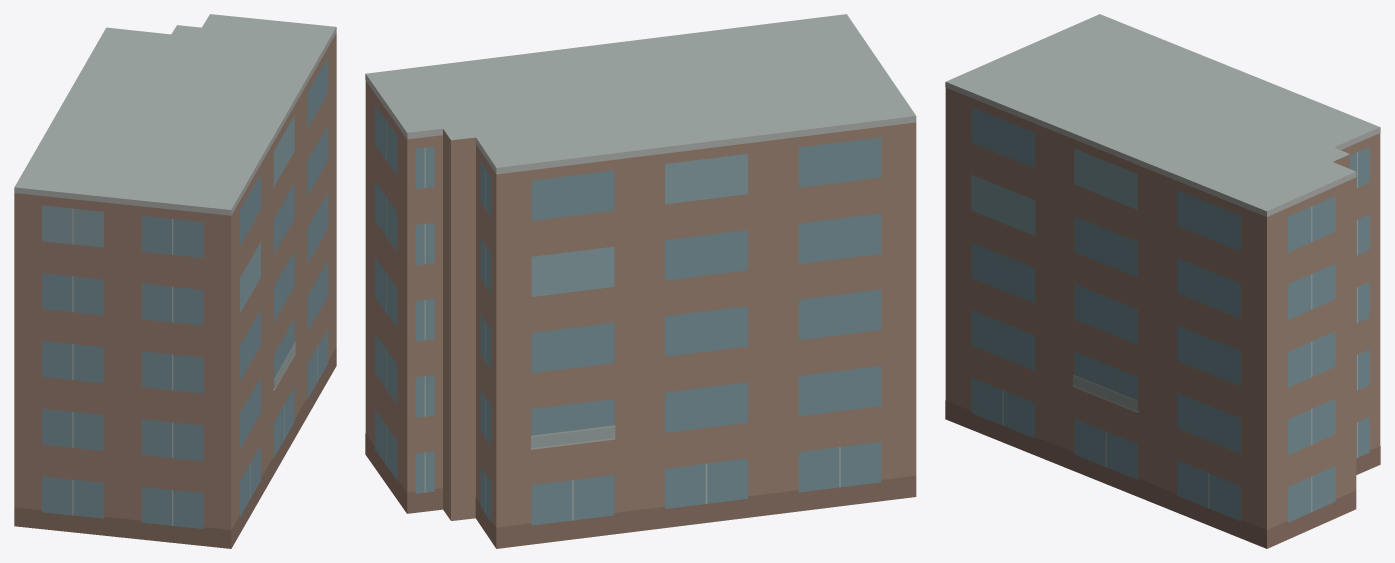
Rendered from survey-upis-32981034.glb.
3 views of the same model, side by side, from view 1: azimuth 30°, elevation 25°; view 2: azimuth 150°, elevation 25°; view 3: azimuth 270°, elevation 25° (orthographic). The views are drawn at different scales.
Visible parts, largest first — view 1: survey-upis-32981034.tmp; view 2: survey-upis-32981034.tmp; view 3: survey-upis-32981034.tmp.
Boxes of the visible parts, x1,y1,x2,y2 form: survey-upis-32981034.tmp: (14,14,336,548); survey-upis-32981034.tmp: (365,14,916,548); survey-upis-32981034.tmp: (945,14,1380,548).
Bounding box in the file's own units: 18.2 × 14.5 × 16.95.
